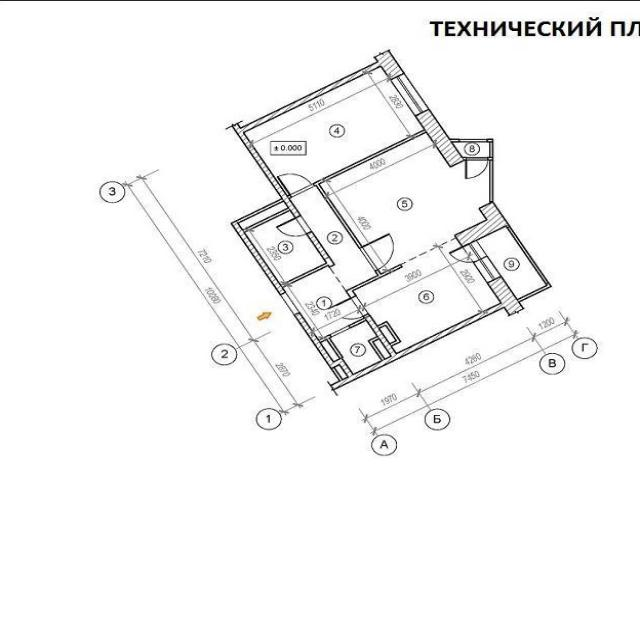Corridors: (321, 134, 489, 272), (290, 187, 376, 287), (284, 267, 363, 339), (478, 228, 545, 298), (453, 142, 490, 157)
Doors: (401, 236, 457, 267), (358, 232, 396, 271), (273, 214, 314, 239), (446, 240, 487, 264), (276, 172, 315, 197), (333, 295, 369, 321), (464, 157, 489, 180), (329, 265, 351, 290), (280, 292, 301, 315), (329, 325, 350, 338), (460, 138, 488, 142)
LBwalls: (294, 303, 505, 397), (240, 50, 405, 134), (223, 120, 302, 218), (230, 221, 286, 295), (415, 108, 464, 168), (453, 201, 509, 248), (486, 275, 525, 318), (306, 231, 329, 259)
Offices: (245, 68, 423, 196), (354, 240, 500, 353), (246, 211, 326, 284), (330, 322, 381, 374)
Walls: (312, 129, 426, 249), (505, 225, 552, 302), (345, 264, 403, 299), (236, 199, 290, 233), (281, 257, 335, 288), (320, 335, 344, 362), (377, 321, 401, 346), (368, 337, 391, 361), (487, 138, 494, 202), (348, 317, 367, 329), (451, 138, 460, 142)
Windows: (390, 73, 430, 116), (473, 256, 501, 282)
